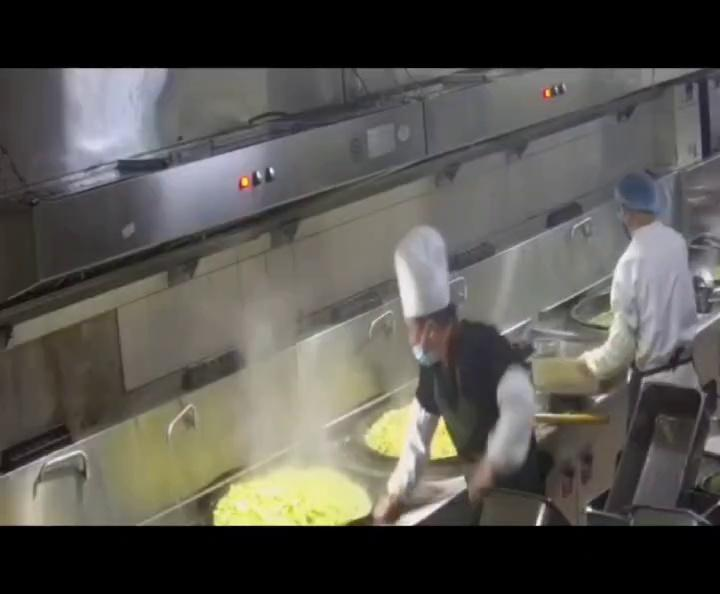mask: (406, 324, 440, 367)
